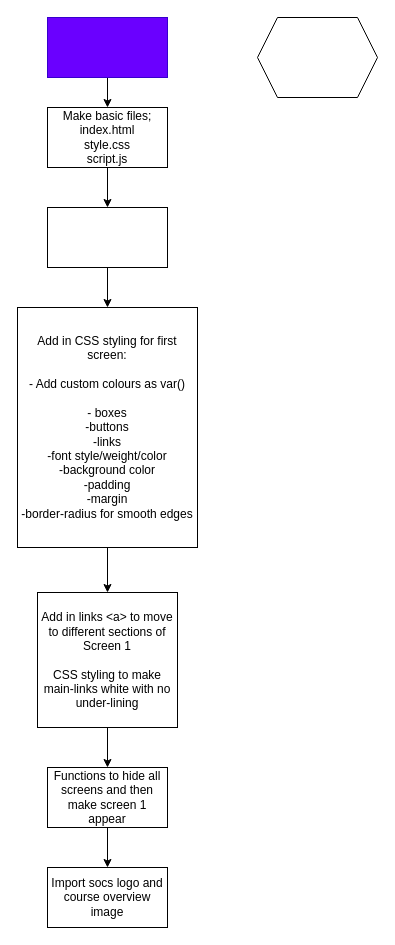
Some shapes in this 395 by 945 pixel diagram are drawn without their labels. Each missing label, with the box of its shape:
GitHub Add Sprint 1 as a milestone with issues: (256, 16, 378, 98)
Set up html for basic out line of: 4 screens 1 nav-bar at base: (46, 206, 168, 268)
SPRINT 1: (46, 16, 168, 78)
